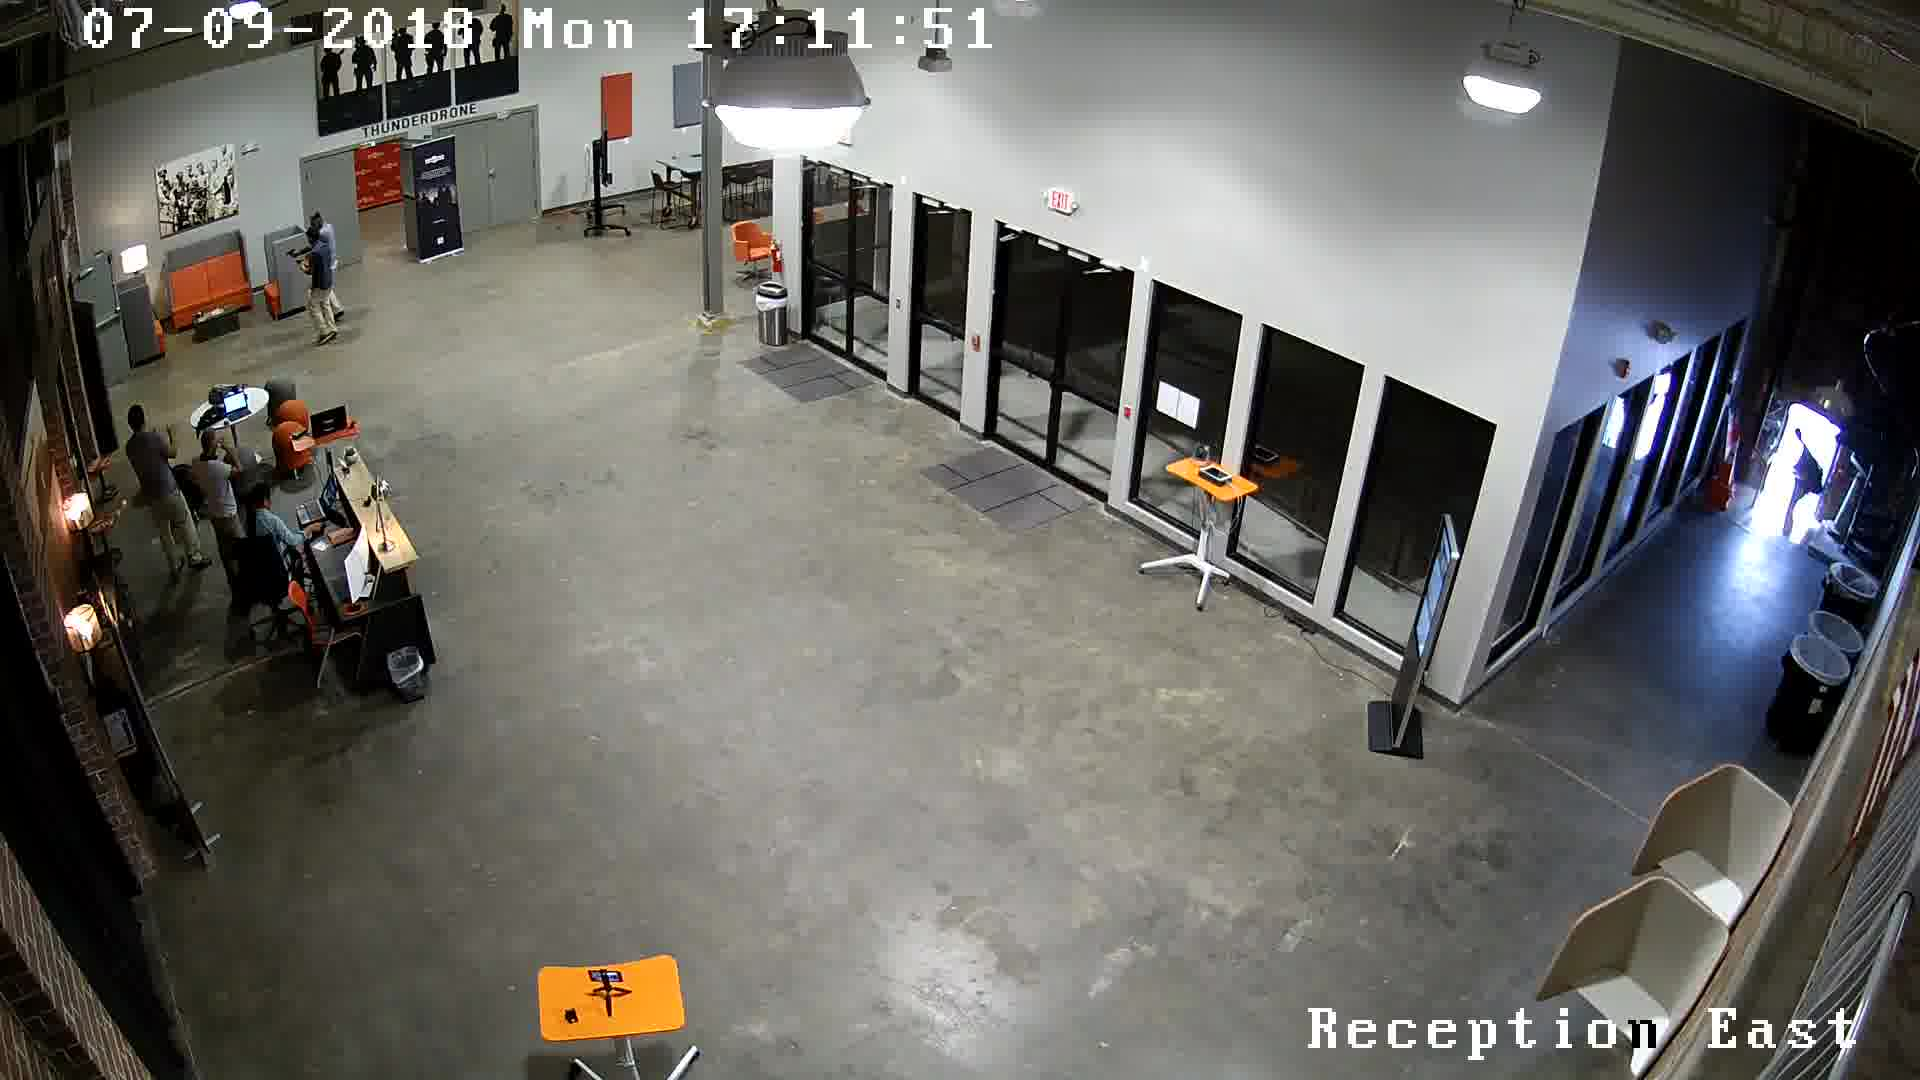pistol: (272, 247, 303, 266)
